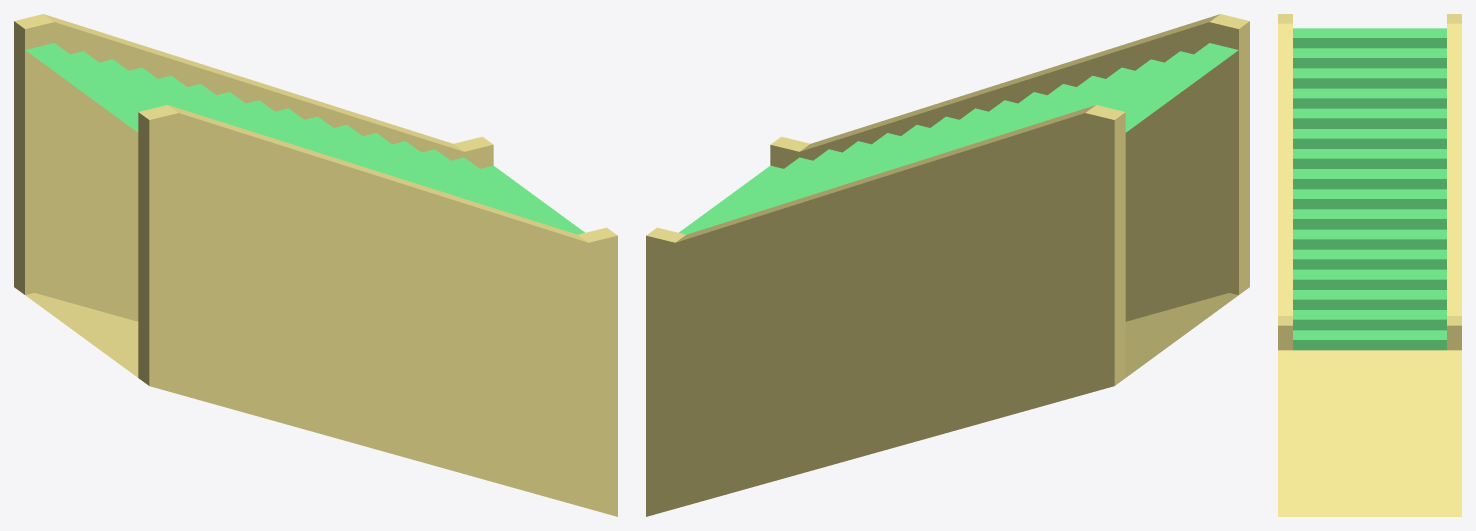
The model's file is stairs_slope.FBX.
3 views of the same model, side by side, from view 1: azimuth 30°, elevation 25°; view 2: azimuth 150°, elevation 25°; view 3: azimuth 270°, elevation 25° (orthographic). The views are drawn at different scales.
Parts seen in each view (by area): view 1: stairs_slope; view 2: stairs_slope; view 3: stairs_slope.
Boxes of the visible parts, x1,y1,x2,y2 form: stairs_slope: (14,14,617,516); stairs_slope: (646,14,1249,516); stairs_slope: (1278,14,1461,516).
Bounding box in the file's own units: 20 × 20.85 × 10.
